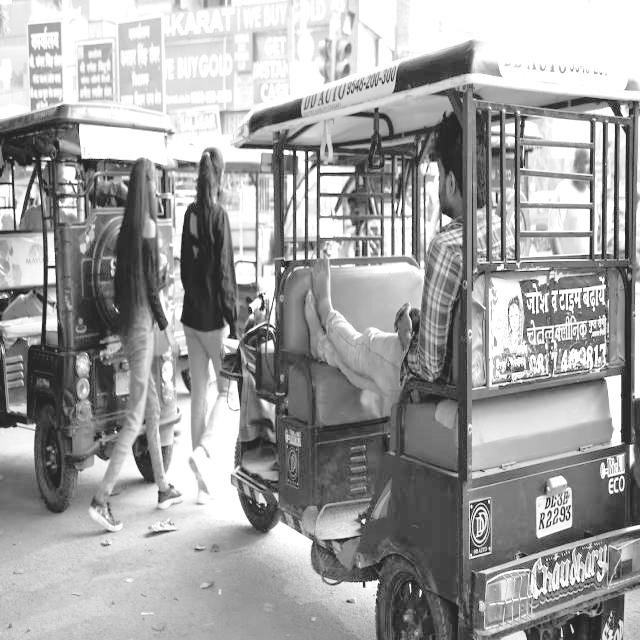Toto: (232, 43, 640, 640), (0, 106, 178, 502)
